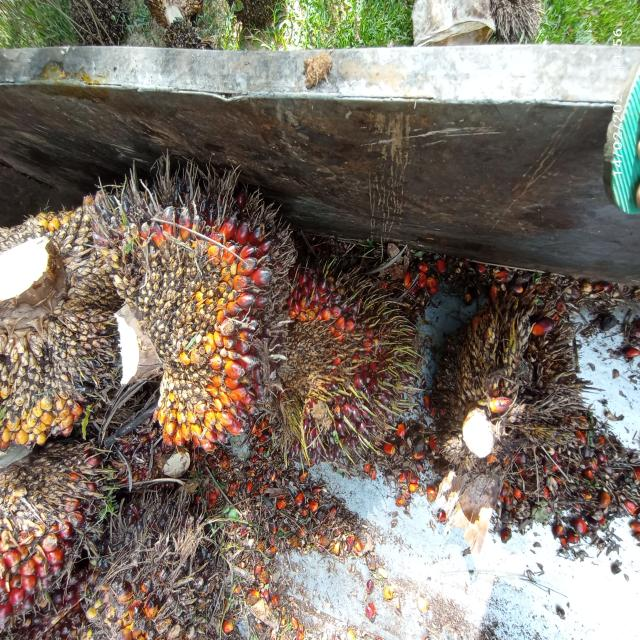fraksi 1: (115, 184, 303, 439), (278, 241, 416, 491)
